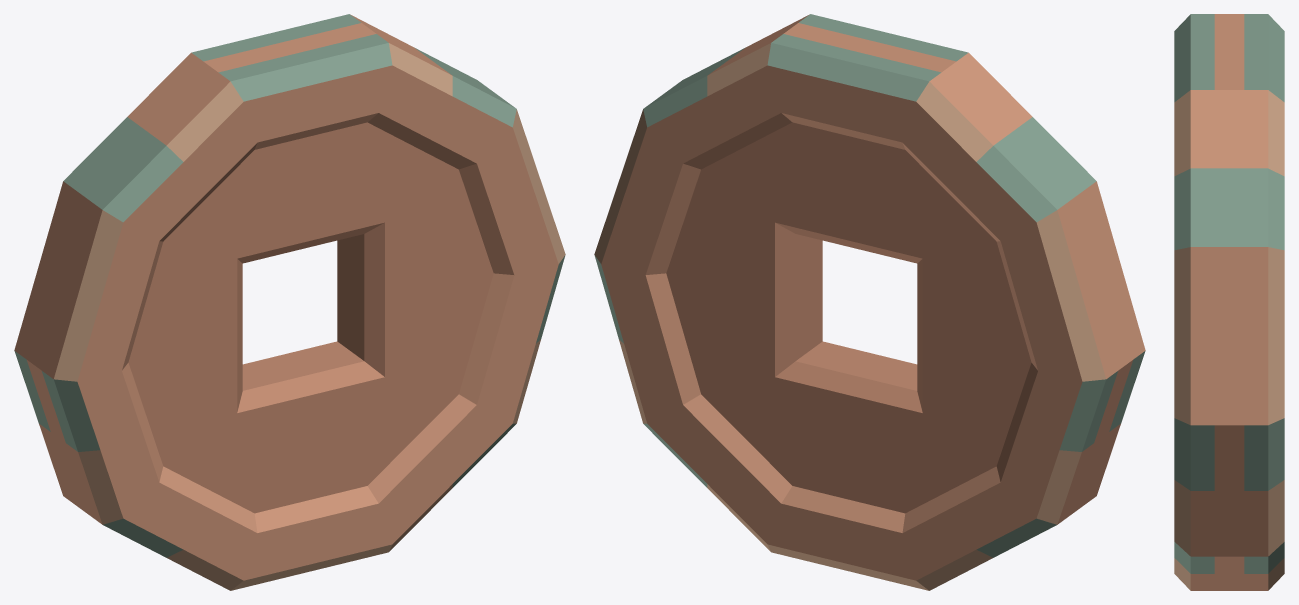
The model's file is copper-coin-b4ebbb.glb.
3 views of the same model, side by side, from view 1: azimuth 30°, elevation 25°; view 2: azimuth 150°, elevation 25°; view 3: azimuth 270°, elevation 25° (orthographic).
Parts seen in each view (by area): view 1: coin; view 2: coin; view 3: coin.
Boxes of the visible parts, box(x1,y1,x2,y2) form: coin: box(14, 14, 565, 590); coin: box(594, 14, 1145, 590); coin: box(1174, 14, 1284, 590).
Size of the model in its own units: 0.0631 by 0.06 by 0.012.
